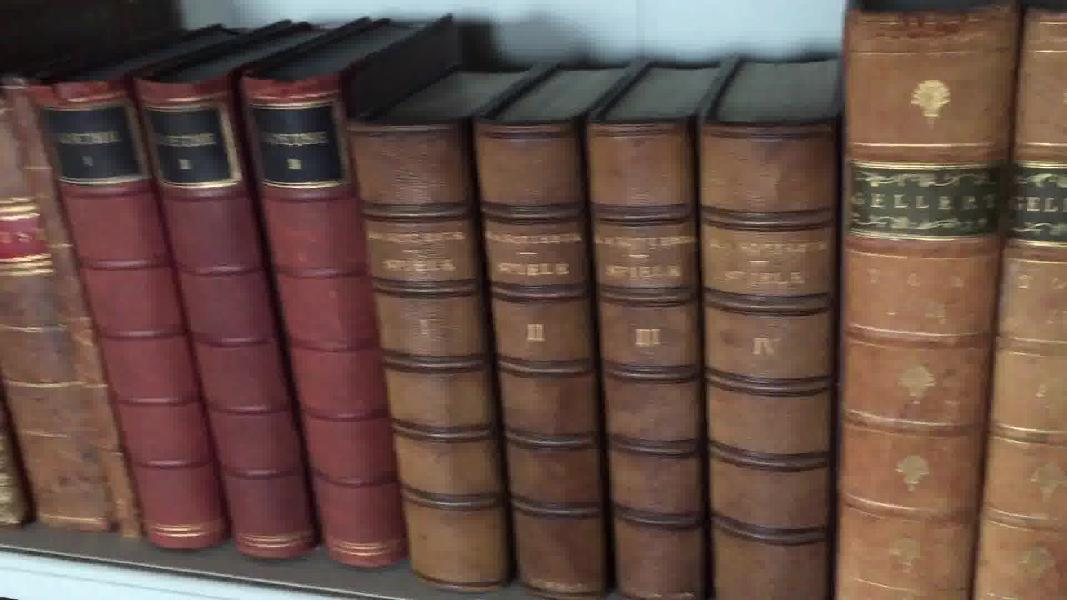Aa6-11_13: (28, 75, 424, 578)
Aa6-14_17: (351, 112, 835, 600)
